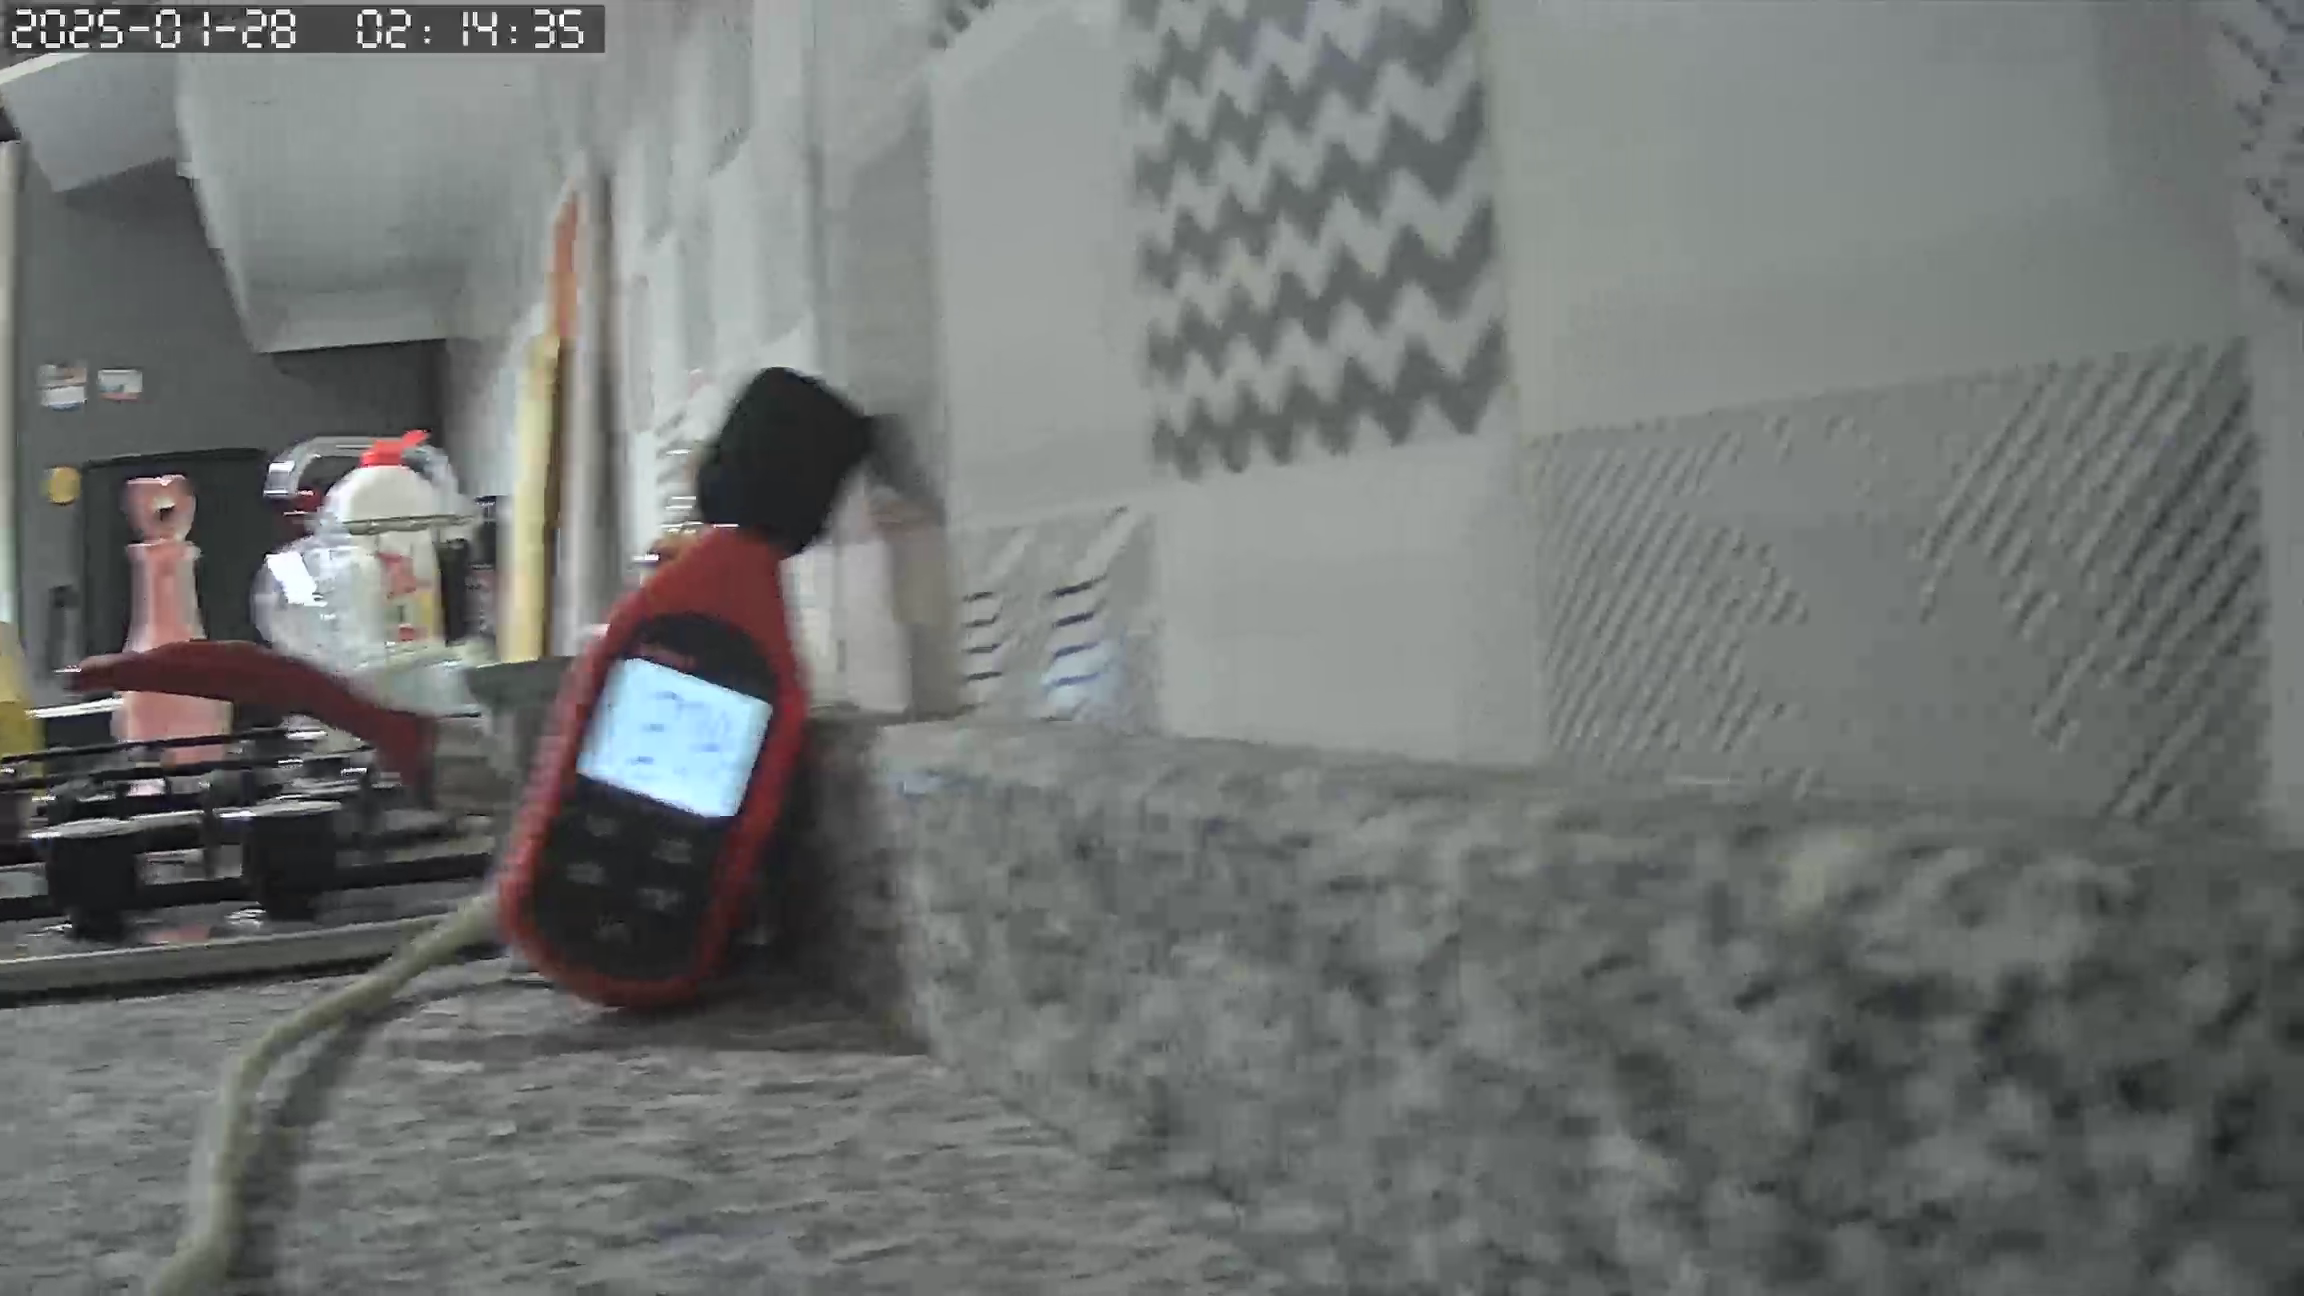screen: (578, 660, 777, 818)
